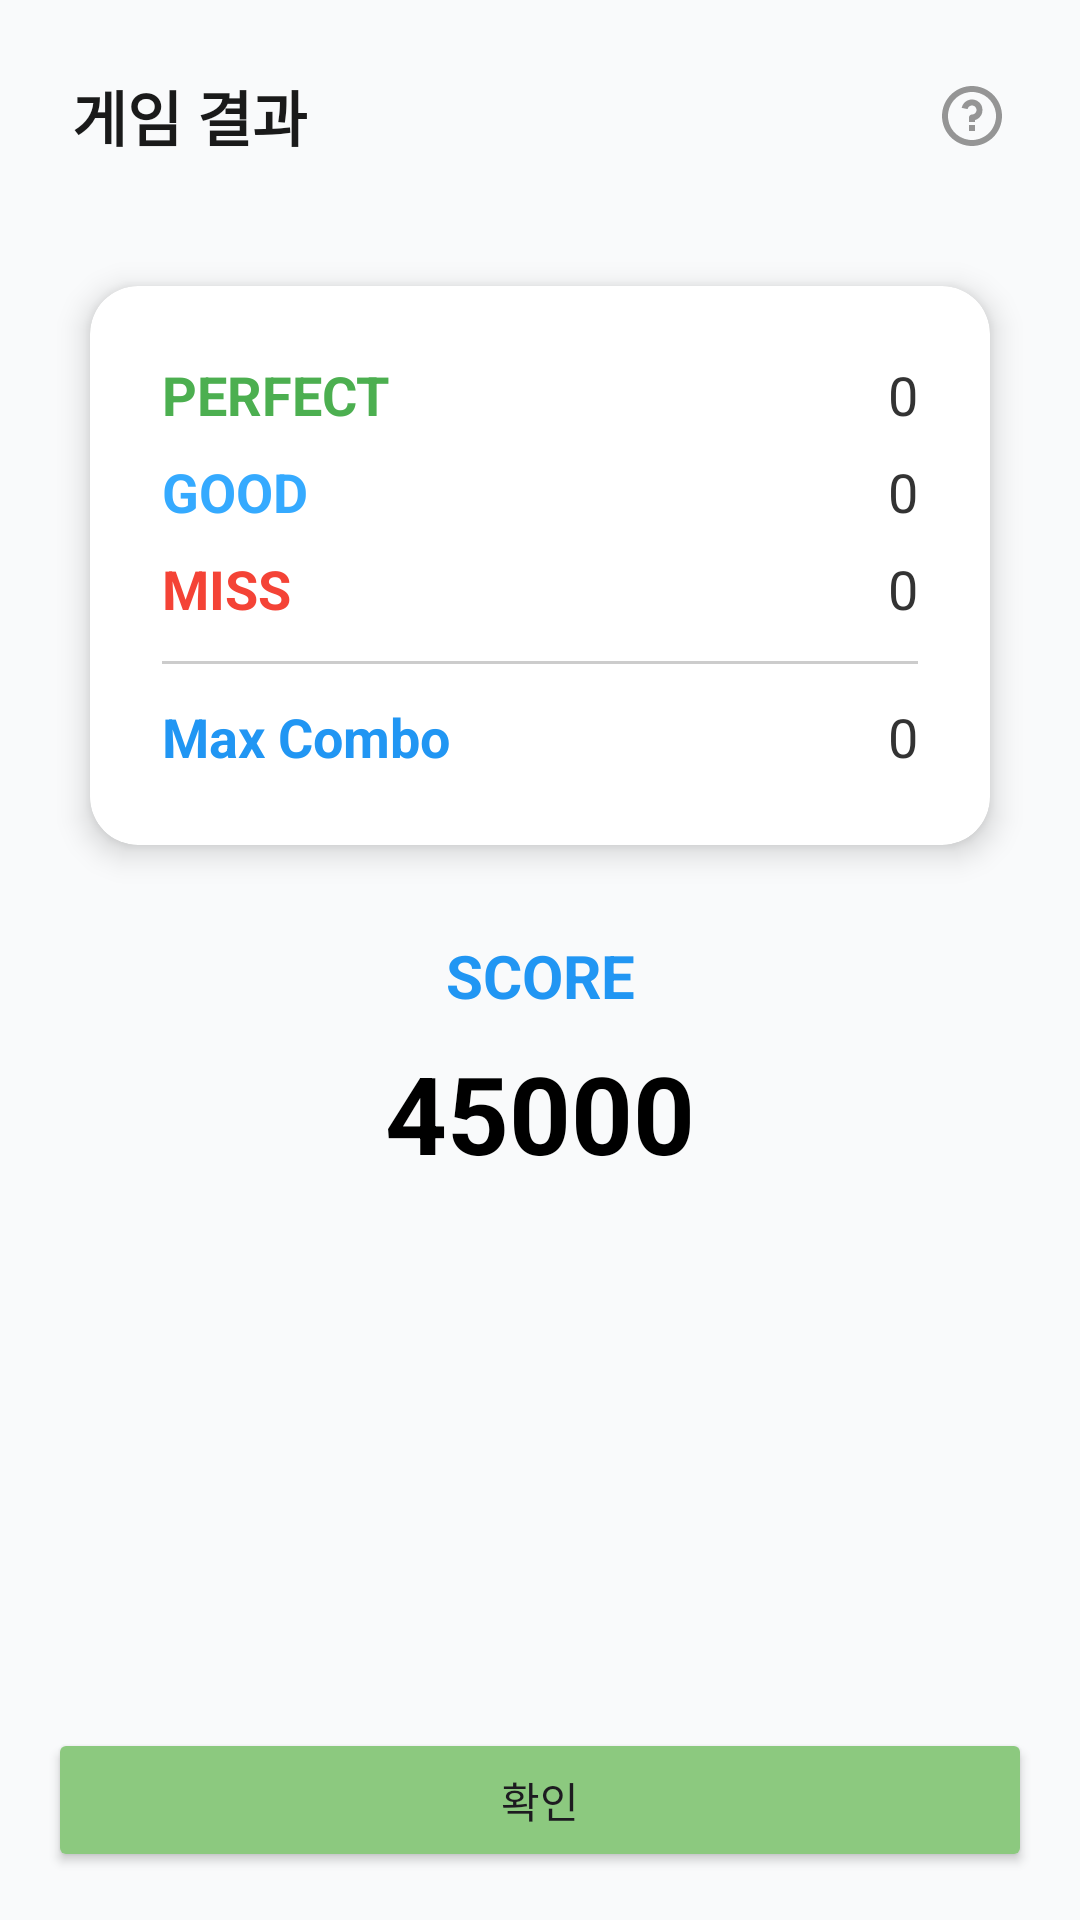

Locate icon controls on the screen. Image size 1080px x 1920px, boxes as (x1,y1,x2,y2).
ri question line: (942,86,1002,146)
